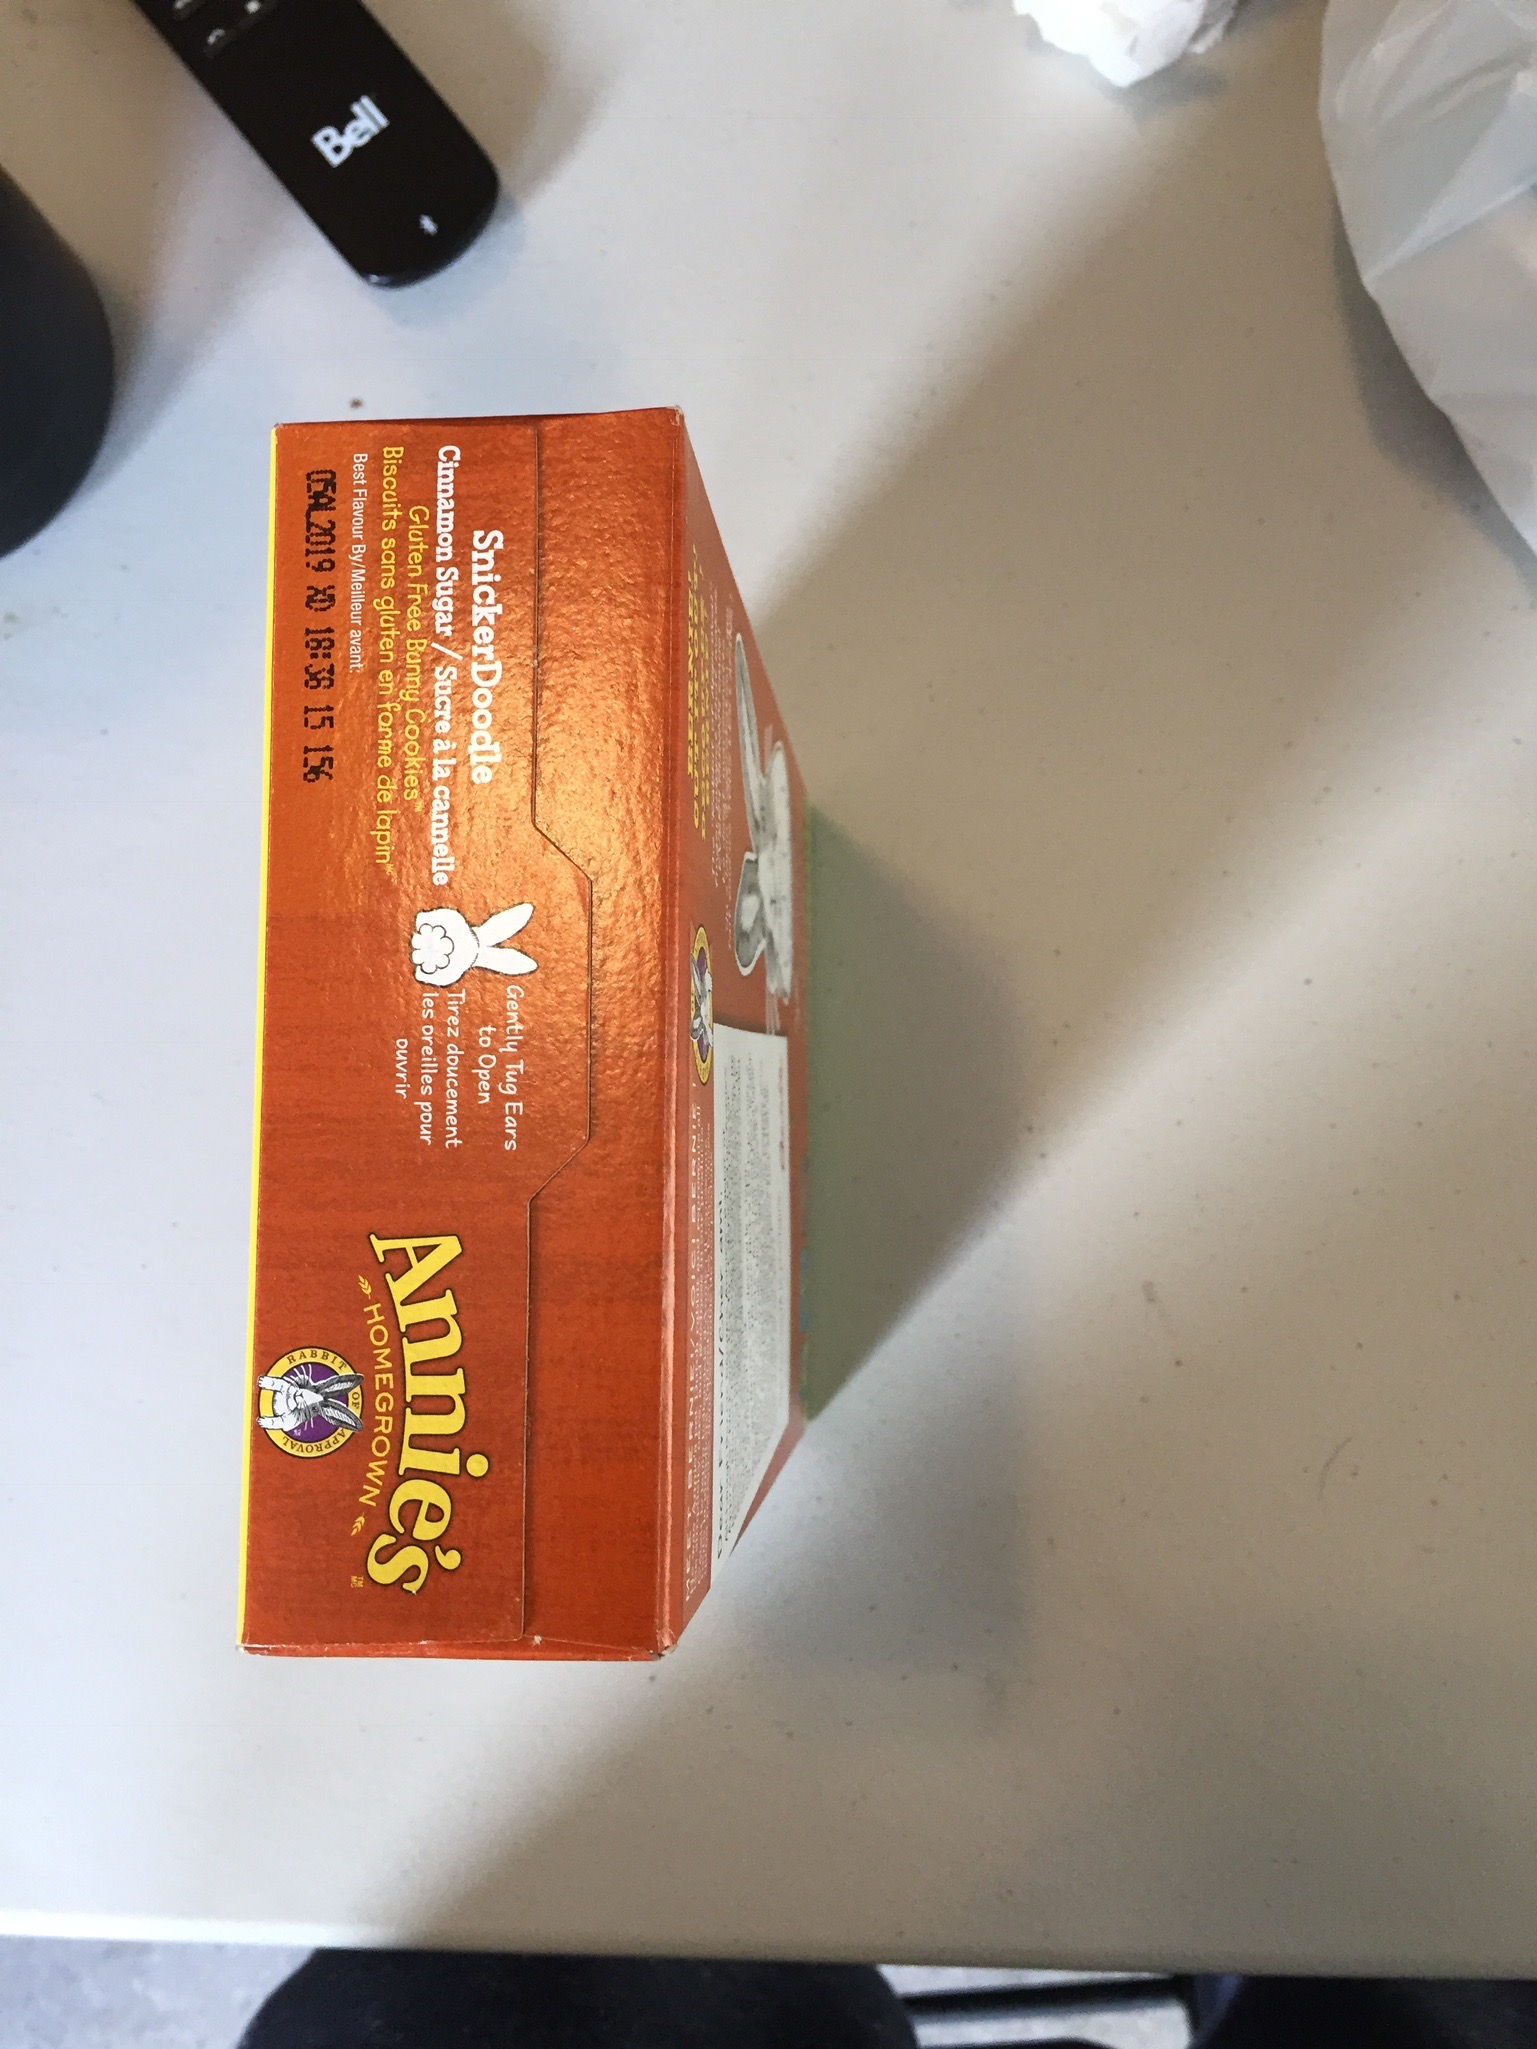annies_snickerdoodles_cinnamon_sugar: (279, 429, 664, 1632)
